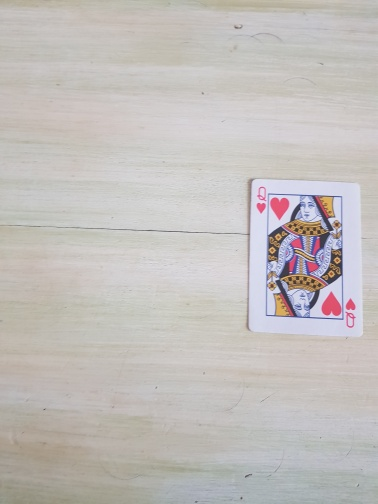queen: (246, 178, 364, 338)
